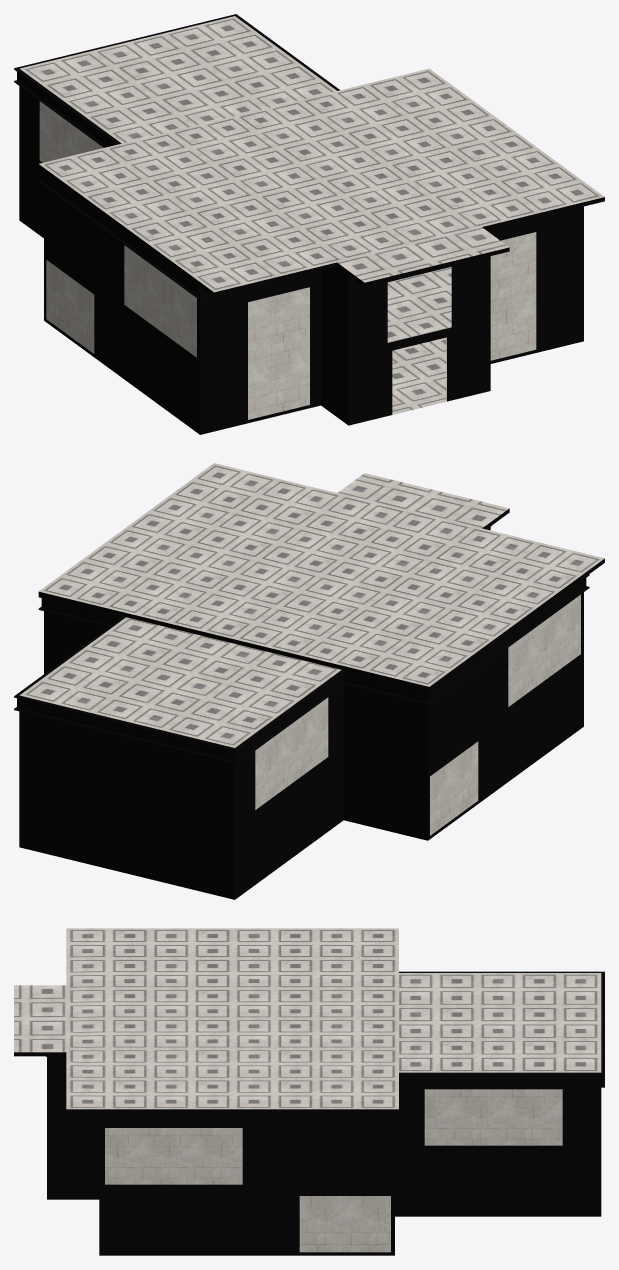
The model's file is launch-building-coon-building.glb.
The picture shows the model from 3 angles, top to bottom: view 1: azimuth 30°, elevation 25°; view 2: azimuth 150°, elevation 25°; view 3: azimuth 270°, elevation 25°; orthographic projection. The views are drawn at different scales.
Parts seen in each view (by area): view 1: Launch_Building_Coon_Exterior_Roof2, Launch_Building_Coon_Exterior_Wall, Launch_Building_Coon_Interior_Wall, Launch_Building_Coon_Exterior_Roof1, Launch_Building_Coon_Building, Launch_Building_Coon_Exterior_Joint1; view 2: Launch_Building_Coon_Exterior_Roof2, Launch_Building_Coon_Exterior_Wall, Launch_Building_Coon_Exterior_Roof1, Launch_Building_Coon_Interior_Wall, Launch_Building_Coon_Exterior_Joint1; view 3: Launch_Building_Coon_Exterior_Roof2, Launch_Building_Coon_Exterior_Wall, Launch_Building_Coon_Interior_Wall, Launch_Building_Coon_Exterior_Roof1, Launch_Building_Coon_Exterior_Joint1.
Part boxes in pixels (x1,y1,x2,y2): Launch_Building_Coon_Exterior_Roof2: (38, 68, 604, 296); Launch_Building_Coon_Exterior_Wall: (19, 86, 583, 434); Launch_Building_Coon_Interior_Wall: (39, 101, 536, 419); Launch_Building_Coon_Exterior_Roof1: (20, 16, 336, 143); Launch_Building_Coon_Building: (387, 267, 451, 414); Launch_Building_Coon_Exterior_Joint1: (14, 14, 339, 299); Launch_Building_Coon_Exterior_Roof2: (38, 463, 604, 691); Launch_Building_Coon_Exterior_Wall: (19, 527, 583, 899); Launch_Building_Coon_Exterior_Roof1: (19, 617, 341, 747); Launch_Building_Coon_Interior_Wall: (255, 594, 580, 835); Launch_Building_Coon_Exterior_Joint1: (14, 574, 589, 764); Launch_Building_Coon_Exterior_Roof2: (14, 928, 398, 1113); Launch_Building_Coon_Exterior_Wall: (47, 1057, 601, 1255); Launch_Building_Coon_Interior_Wall: (105, 1089, 562, 1252); Launch_Building_Coon_Exterior_Roof1: (399, 973, 601, 1072); Launch_Building_Coon_Exterior_Joint1: (95, 971, 604, 1126).
Size of the model in its own units: 28.62 by 10.93 by 39.56.
Materials: 5 (5 with a texture image).
